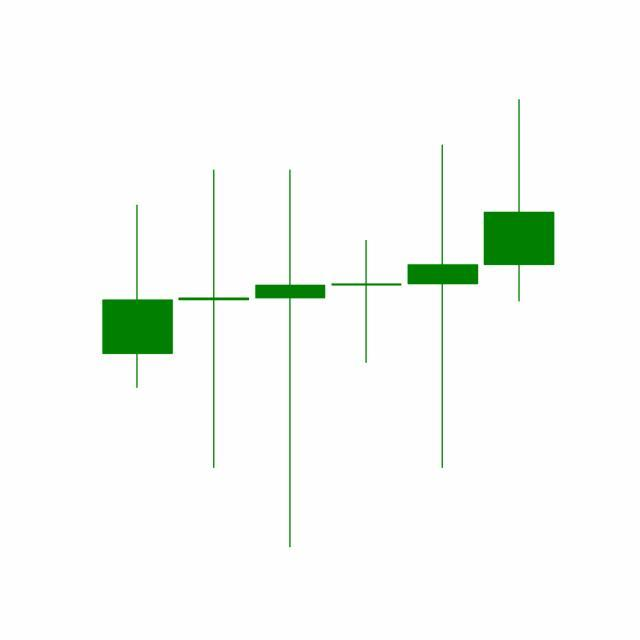Spinning Top: (404, 142, 482, 473)
